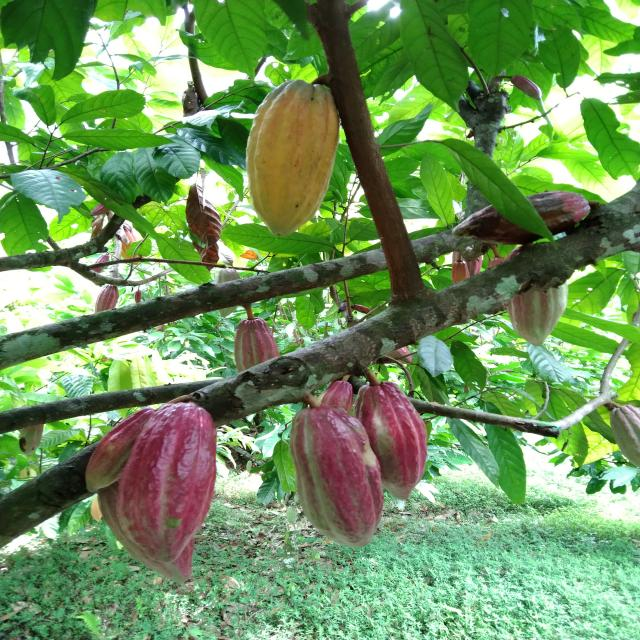Fitoftora: (460, 194, 586, 240)
Sana: (248, 80, 341, 231), (129, 404, 212, 560), (300, 404, 380, 554), (357, 383, 428, 496), (89, 418, 142, 492), (517, 296, 565, 350), (237, 318, 279, 372), (605, 406, 640, 461), (326, 382, 357, 414), (97, 284, 116, 310)
